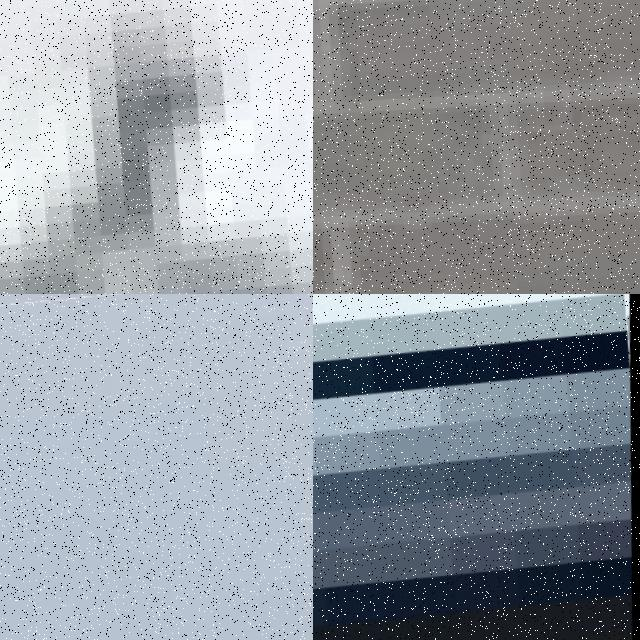drone: (313, 294, 640, 640), (0, 294, 313, 640), (0, 0, 313, 294)
